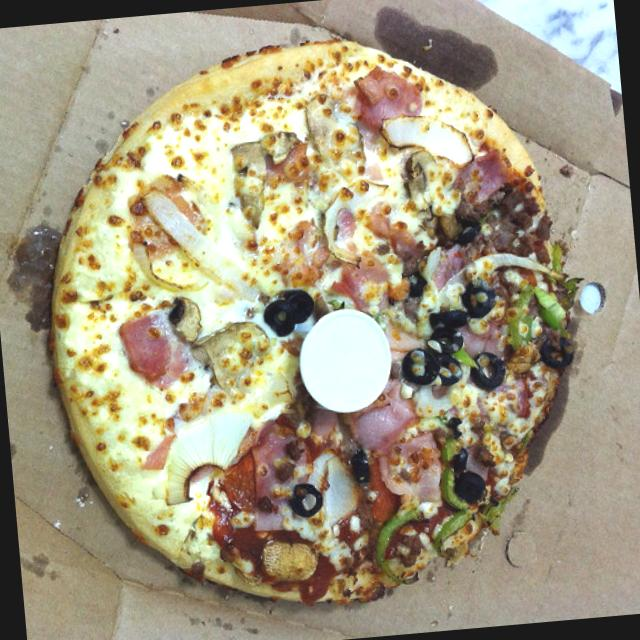Bell Pepper: (341, 496, 428, 590), (489, 284, 561, 358), (422, 500, 490, 558)
Olive: (419, 264, 499, 346), (390, 335, 468, 397), (464, 340, 519, 404), (438, 448, 490, 513), (261, 281, 319, 337), (285, 484, 331, 518)
mushrooms: (225, 122, 272, 251), (159, 291, 212, 356), (406, 152, 447, 218)
pizza: (51, 38, 577, 602)
